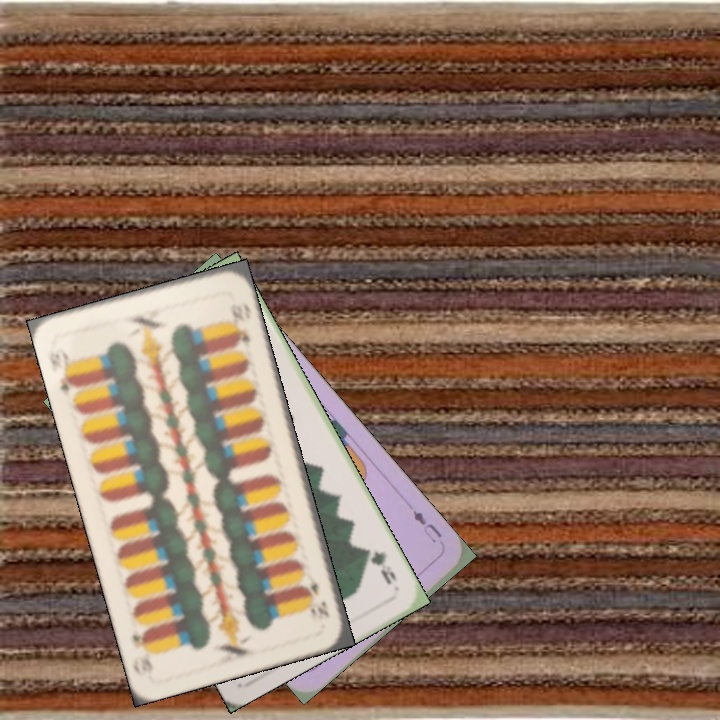E10: (45, 344, 81, 398), (302, 568, 332, 621)
EU: (408, 506, 445, 546)
G9: (360, 543, 400, 587)
